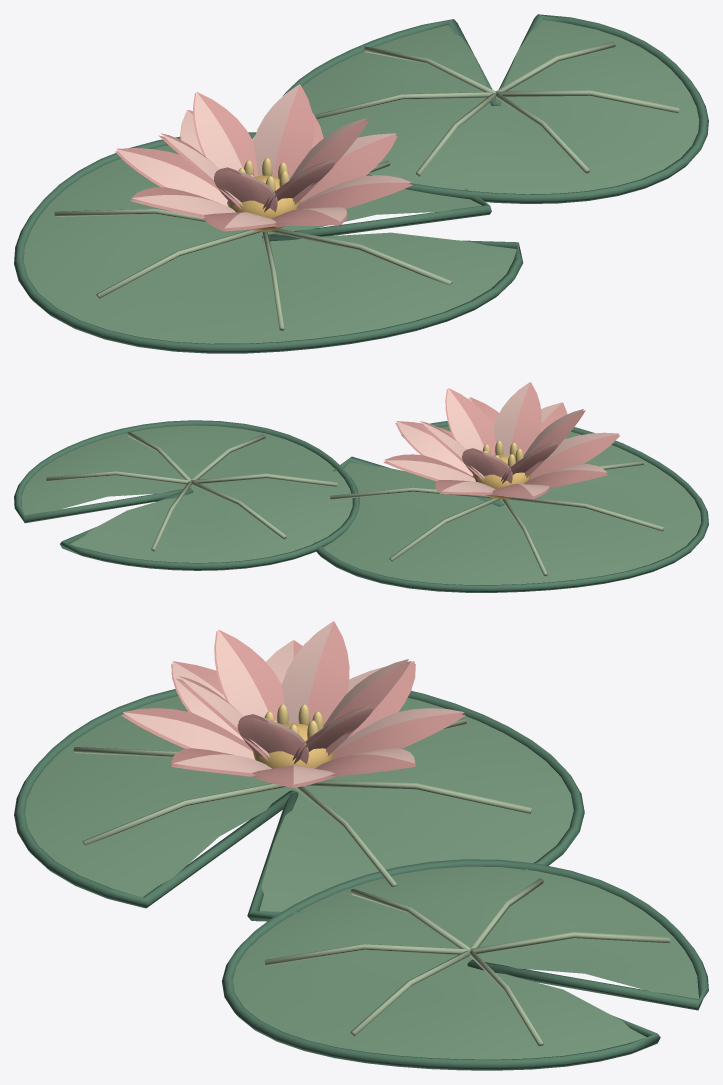
The model's file is lily.glb.
The picture shows the model from 3 angles, top to bottom: view 1: azimuth 30°, elevation 25°; view 2: azimuth 150°, elevation 25°; view 3: azimuth 270°, elevation 25°; orthographic projection. The views are drawn at different scales.
Visible parts, largest first — view 1: Notched lily pad_Mesh, Notched lily pad.001_Mesh, Water lily blossom_Mesh; view 2: Notched lily pad.001_Mesh, Notched lily pad_Mesh, Water lily blossom_Mesh; view 3: Notched lily pad.001_Mesh, Notched lily pad_Mesh, Water lily blossom_Mesh.
Boxes of the visible parts, x1,y1,x2,y2 form: Notched lily pad_Mesh: [14, 132, 523, 353]; Notched lily pad.001_Mesh: [283, 14, 708, 203]; Water lily blossom_Mesh: [115, 84, 412, 231]; Notched lily pad.001_Mesh: [14, 420, 359, 570]; Notched lily pad_Mesh: [314, 421, 708, 592]; Water lily blossom_Mesh: [383, 382, 619, 499]; Notched lily pad.001_Mesh: [222, 859, 708, 1070]; Notched lily pad_Mesh: [14, 689, 584, 921]; Water lily blossom_Mesh: [121, 621, 465, 787].
Bounding box in the file's own units: 0.7874 × 0.1328 × 0.5883.
